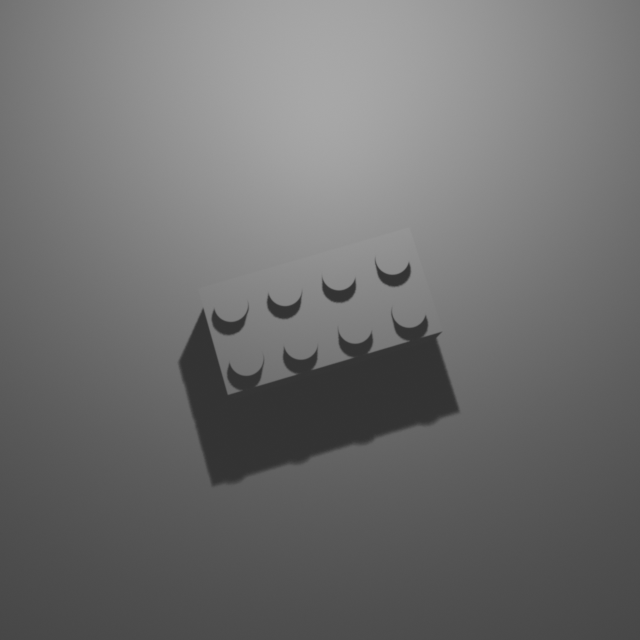lego_2x4: (197, 224, 444, 399)
